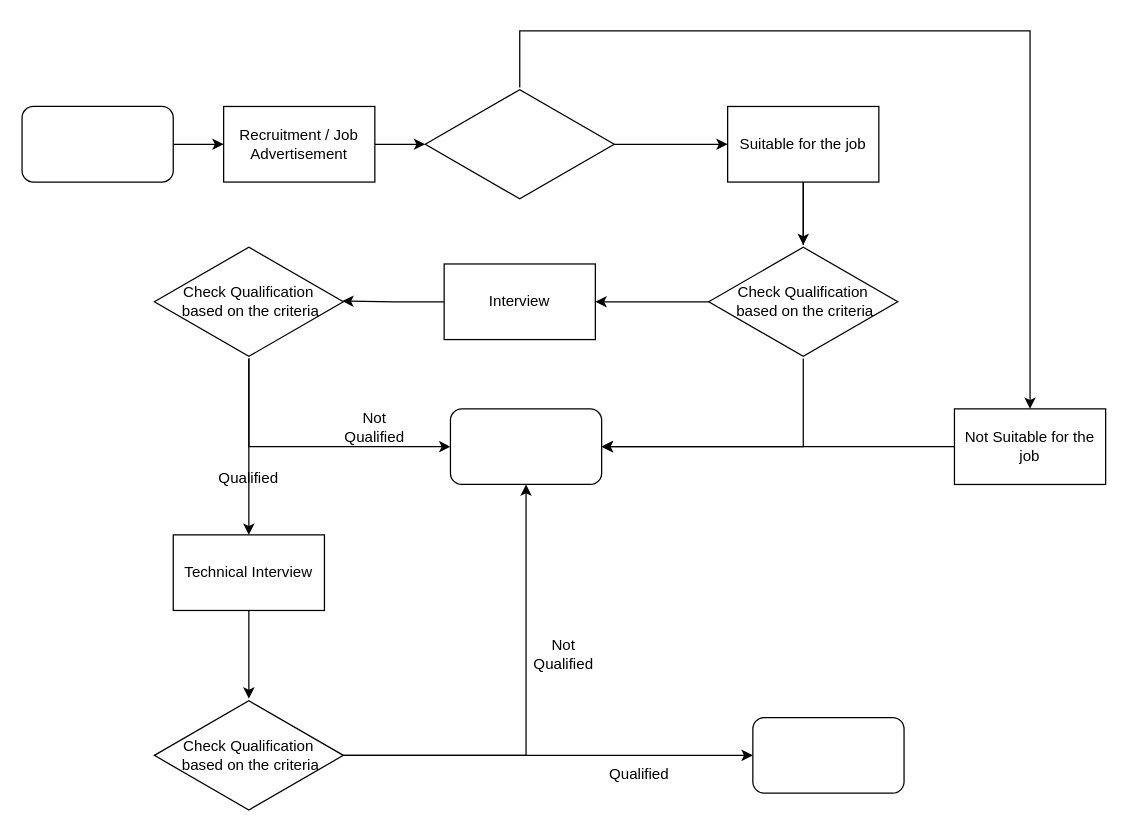
Image size: 1128x834. Some labels were removed from this diagram. The shapes that lost their labels are listed below. From the top down, each one's box as (x1, y1, x2, y2) in pixels, then its label:
(21, 105, 173, 182): Criteria Specification
(424, 86, 614, 201): Select applicants
(449, 408, 602, 484): Send Thank you Email
(752, 716, 904, 793): Give Job Offer
